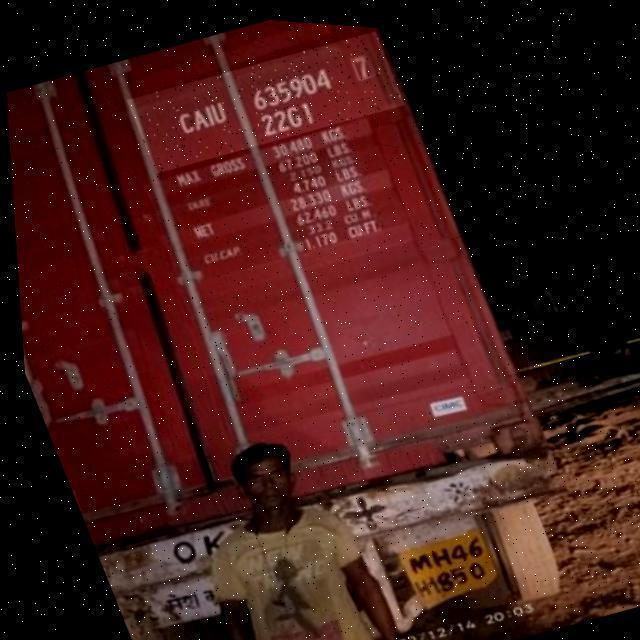ISO: (256, 99, 313, 133)
container_number: (175, 44, 369, 138)
